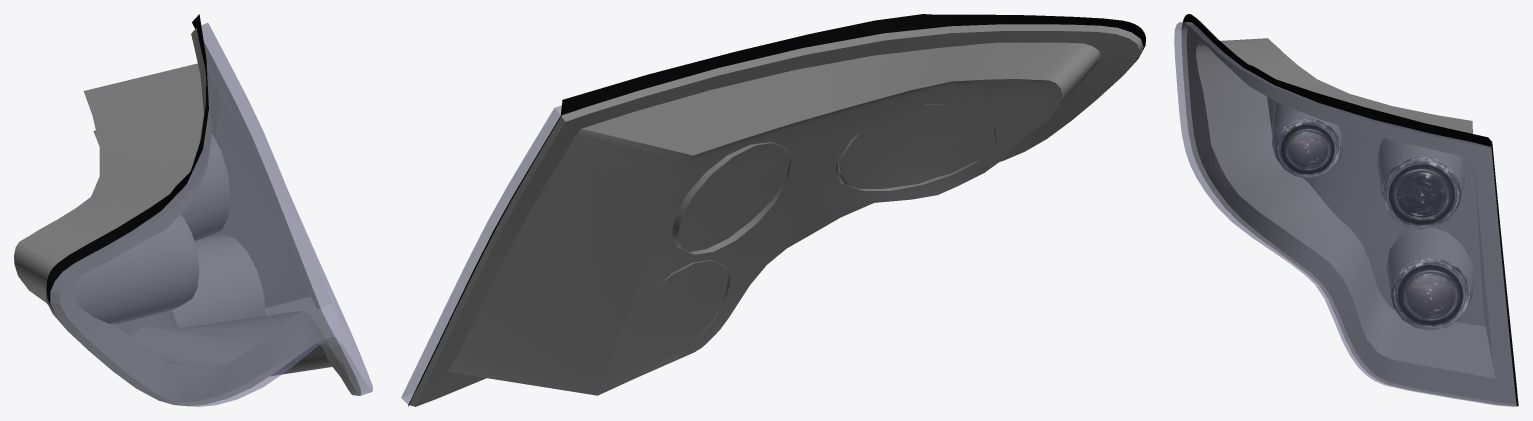
3 renders of one model, left to right at view 1: azimuth 30°, elevation 25°; view 2: azimuth 150°, elevation 25°; view 3: azimuth 270°, elevation 25°, orthographic. The views are drawn at different scales.
Parts seen in each view (by area): view 1: P740_061B_R_P740_061B_R_4_DaS, P740_061B_R_P740_061B_R_6_DTaSI, P740_061B_R_P740_061B_R_7_D; view 2: P740_061B_R_P740_061B_R_4_DaS, P740_061B_R_P740_061B_R_7_D, P740_061B_R_P740_061B_R_6_DTaSI; view 3: P740_061B_R_P740_061B_R_6_DTaSI, P740_061B_R_P740_061B_R_4_DaS, P740_061B_R_P740_061B_R_2_N, P740_061B_R_1_N_P740_061B_R, P740_061B_R_P740_061B_R_7_D, P740_061B_R_P740_061B_R_3_N.
Boxes of the visible parts, left/top/right/bottom form: P740_061B_R_P740_061B_R_4_DaS: left=14, top=28, right=360, bottom=406; P740_061B_R_P740_061B_R_6_DTaSI: left=50, top=23, right=372, bottom=406; P740_061B_R_P740_061B_R_7_D: left=46, top=14, right=208, bottom=312; P740_061B_R_P740_061B_R_4_DaS: left=409, top=24, right=1143, bottom=406; P740_061B_R_P740_061B_R_7_D: left=408, top=14, right=1145, bottom=406; P740_061B_R_P740_061B_R_6_DTaSI: left=401, top=105, right=561, bottom=404; P740_061B_R_P740_061B_R_6_DTaSI: left=1174, top=22, right=1516, bottom=406; P740_061B_R_P740_061B_R_4_DaS: left=1181, top=22, right=1516, bottom=406; P740_061B_R_P740_061B_R_2_N: left=1390, top=258, right=1470, bottom=330; P740_061B_R_1_N_P740_061B_R: left=1381, top=157, right=1461, bottom=229; P740_061B_R_P740_061B_R_7_D: left=1182, top=14, right=1518, bottom=406; P740_061B_R_P740_061B_R_3_N: left=1275, top=118, right=1340, bottom=178.
Size of the model in its own units: 41.69 by 26.23 by 35.45.
